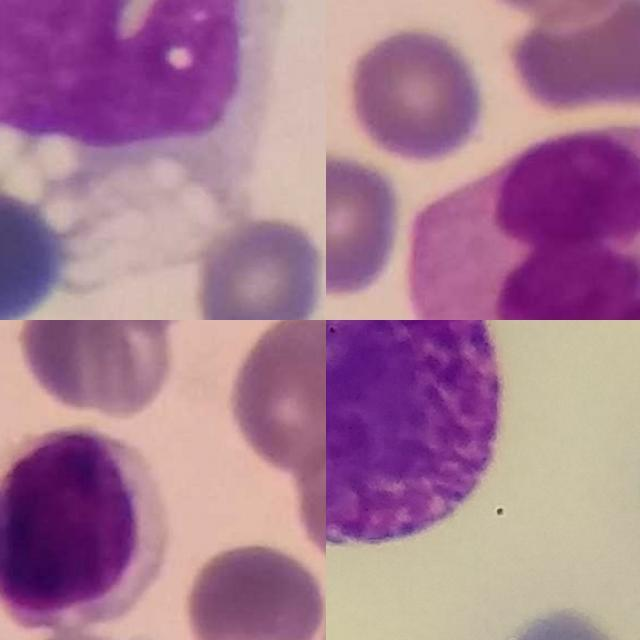Basophil: (326, 320, 509, 548)
Lymphocyte: (0, 422, 175, 635)
Monocyte: (0, 0, 287, 277), (409, 117, 640, 320)
